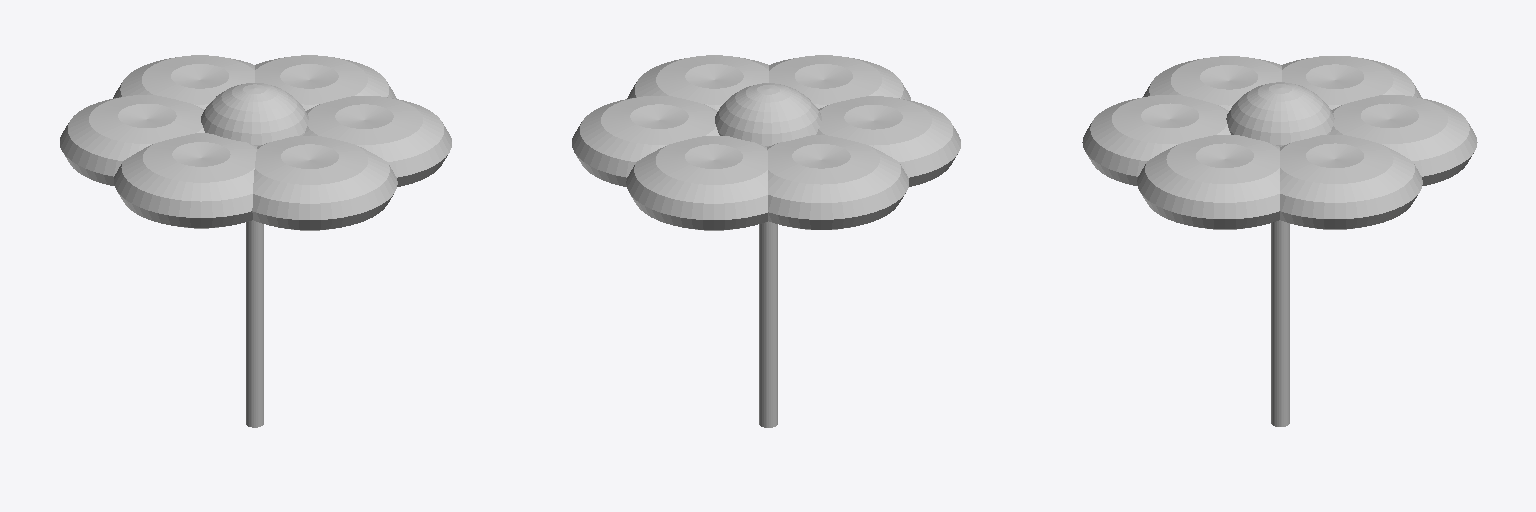
File: flower.obj
3 views of the same model, side by side, from view 1: azimuth 30°, elevation 25°; view 2: azimuth 150°, elevation 25°; view 3: azimuth 270°, elevation 25° (orthographic).
Parts seen in each view (by area): view 1: Torus.002_Torus.003, Sphere, Cylinder; view 2: Torus.002_Torus.003, Sphere, Cylinder; view 3: Torus.002_Torus.003, Sphere, Cylinder.
Part boxes in pixels (left/top/right/bottom): Torus.002_Torus.003: left=60, top=55, right=451, bottom=230; Sphere: left=201, top=83, right=308, bottom=146; Cylinder: left=246, top=220, right=263, bottom=427; Torus.002_Torus.003: left=572, top=55, right=960, bottom=230; Sphere: left=715, top=83, right=821, bottom=146; Cylinder: left=759, top=221, right=777, bottom=427; Torus.002_Torus.003: left=1082, top=56, right=1477, bottom=229; Sphere: left=1226, top=82, right=1334, bottom=146; Cylinder: left=1271, top=220, right=1289, bottom=426.
Bounding box in the file's own units: 15.95 × 16.28 × 17.38.